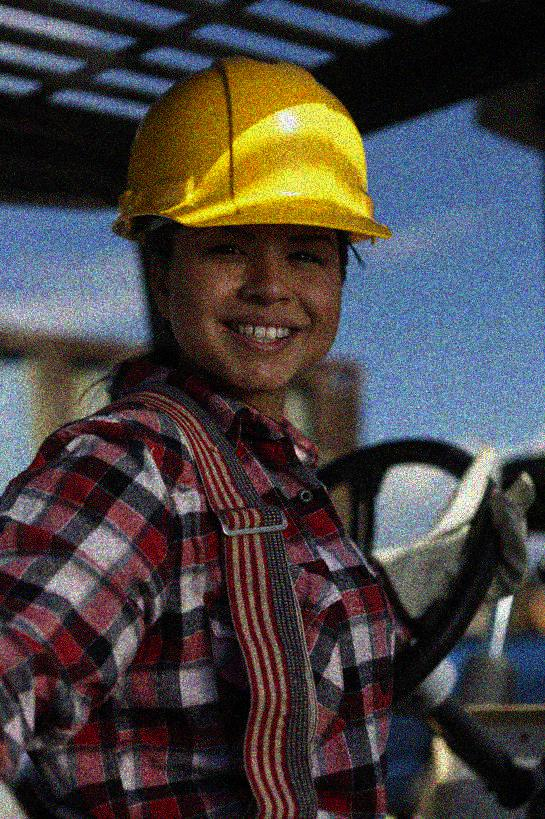helmet: (107, 55, 392, 402)
